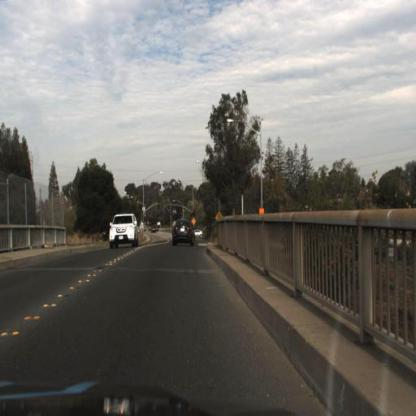car: (104, 206, 144, 257), (109, 213, 140, 250), (172, 218, 198, 251)
